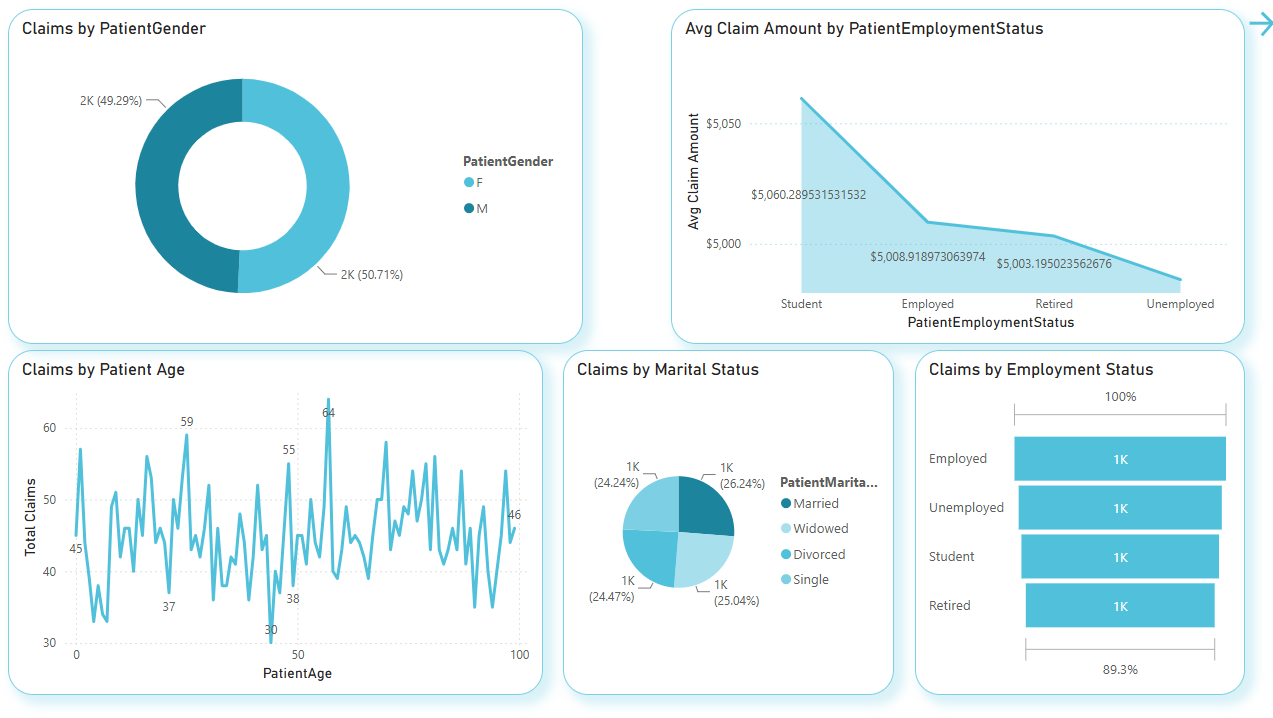

This screenshot's page, from the dashboard's own definition file:
{"tool":"powerbi","page":{"name":"Demographics","canvas":[1280,720],"ordinal":2},"visuals":[{"type":"lineChart","title":"Claims by Patient Age","fields":{"Category":["enhanced_health_insurance_claims.PatientAge"],"Y":["DateTable.Total Claims"]},"box":[9.7,350.2,535,345],"z":0},{"type":"stackedAreaChart","title":"Avg Claim Amount by PatientEmploymentStatus","fields":{"Category":["enhanced_health_insurance_claims.PatientEmploymentStatus"],"Y":["enhanced_health_insurance_claims.Avg Claim Amount"]},"box":[672.5,9,574.9,334.9],"z":1000},{"type":"pieChart","title":"Claims by Marital Status","fields":{"Category":["enhanced_health_insurance_claims.PatientMaritalStatus"],"Y":["DateTable.Total Claims"]},"box":[565.1,350.1,330.4,344.8],"z":2000},{"type":"funnel","title":" Claims by Employment Status","fields":{"Category":["enhanced_health_insurance_claims.PatientEmploymentStatus"],"Y":["DateTable.Total Claims"]},"box":[917,350.1,330.4,344.8],"z":3000},{"type":"donutChart","title":"Claims by PatientGender","fields":{"Category":["enhanced_health_insurance_claims.PatientGender"],"Y":["DateTable.Total Claims"]},"box":[9.9,9,575,335],"z":4000},{"type":"actionButton","box":[1245.7,0,34,46.6],"z":5000}]}

Visuals, with their boxes in screenshot pixels (x1, y1, x2, y2), scaled from the page's 1280x720 canvas onto the 1273x718 screenshot:
"Claims by Patient Age" lineChart: (10,349,542,693)
"Avg Claim Amount by PatientEmploymentStatus" stackedAreaChart: (669,9,1241,343)
"Claims by Marital Status" pieChart: (562,349,891,693)
" Claims by Employment Status" funnel: (912,349,1241,693)
"Claims by PatientGender" donutChart: (10,9,582,343)
actionButton: (1239,0,1272,46)
